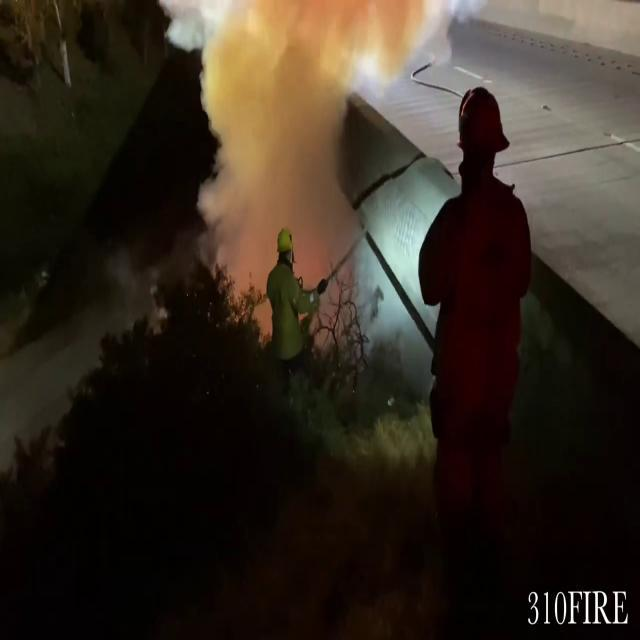Smoke: (183, 0, 421, 277)
